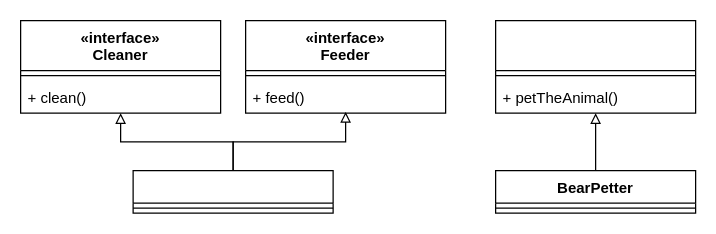
Image size: 716x234. Some labels were removed from this diagram. The shapes that lost their labels are listed below. From the top down, each one's box as (x1, y1, x2, y2) in pixels, then its label:
(494, 19, 696, 113): «interface» Petter
(132, 169, 333, 213): BearCarer
